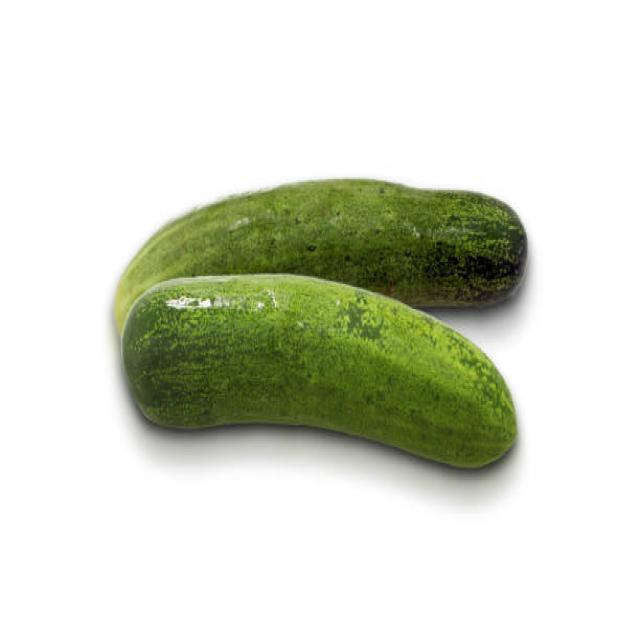cucumber: (123, 271, 516, 470), (116, 177, 529, 342)
